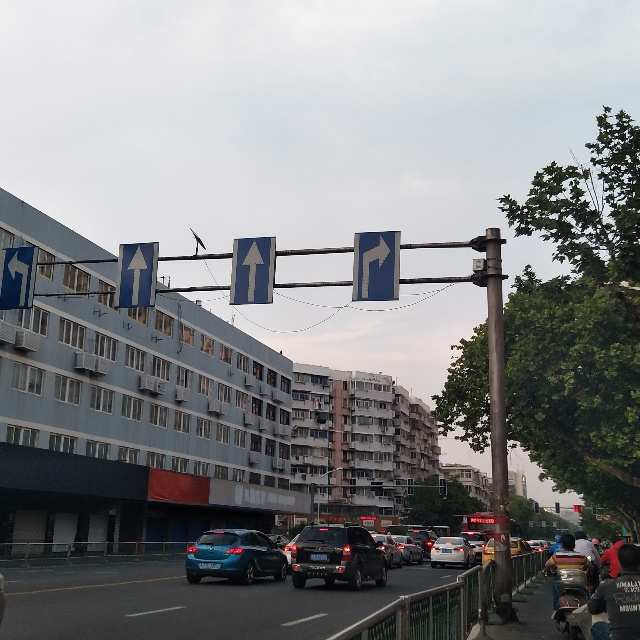left: (3, 249, 31, 308)
right: (357, 227, 402, 307)
straight: (237, 239, 274, 305), (121, 243, 151, 307)
